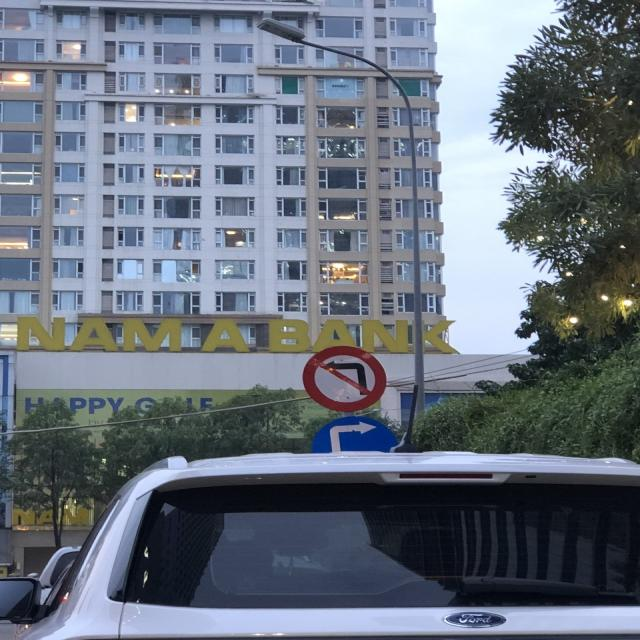Bien bao cam re trai: (294, 341, 397, 411)
